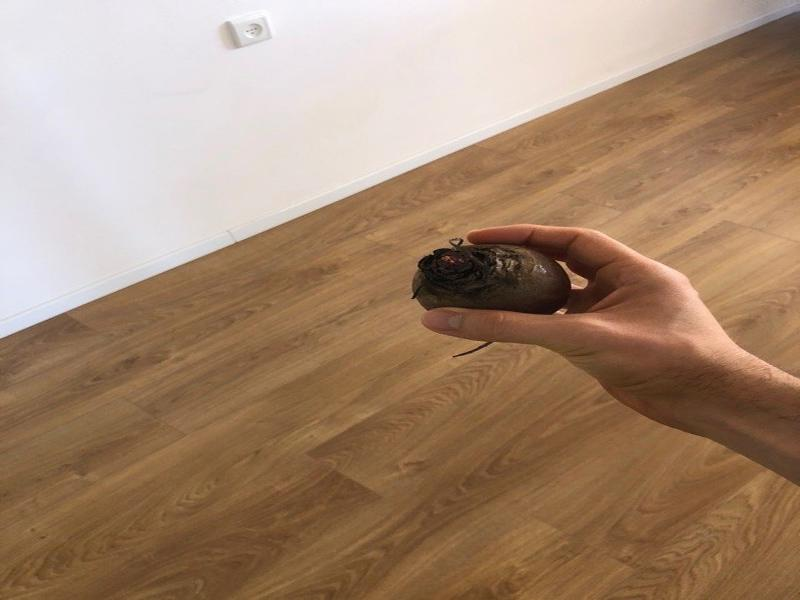Beet: (410, 241, 569, 357)
